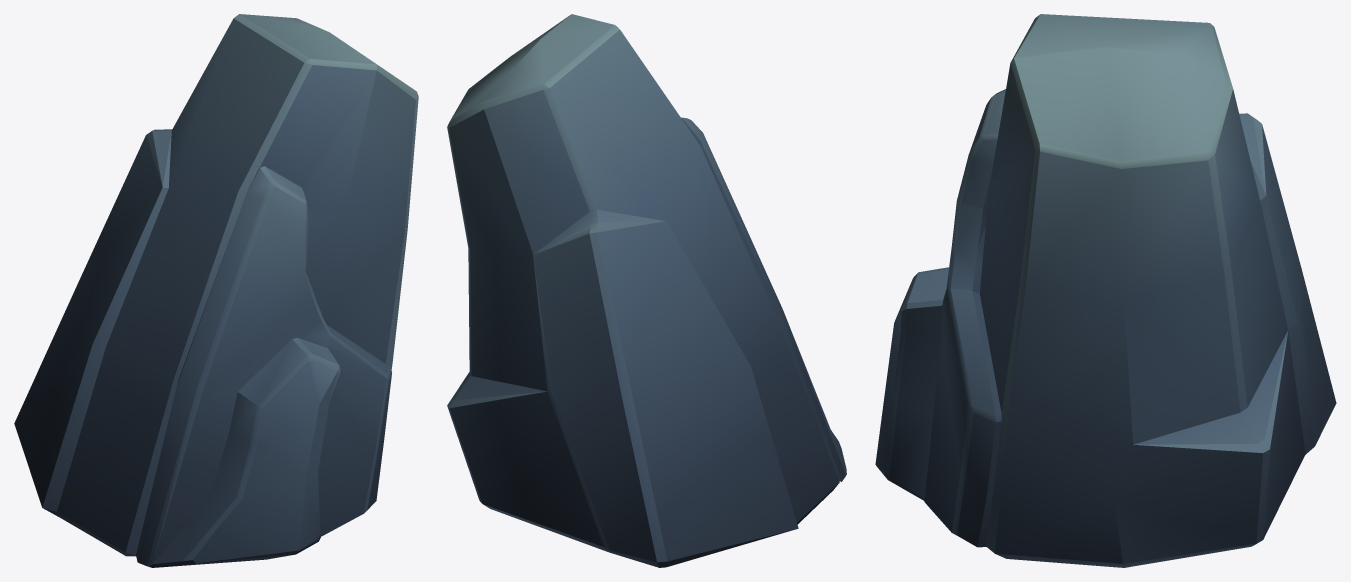
Rendered from rock_big_3.glb.
The picture shows the model from 3 angles, left to right: view 1: azimuth 30°, elevation 25°; view 2: azimuth 150°, elevation 25°; view 3: azimuth 270°, elevation 25°; orthographic projection. The views are drawn at different scales.
Visible parts, largest first — view 1: rock_big_3; view 2: rock_big_3; view 3: rock_big_3.
Part boxes in pixels (box(x1,y1,x2,y2)): rock_big_3: box(14, 14, 418, 567); rock_big_3: box(447, 14, 846, 567); rock_big_3: box(875, 14, 1336, 567).
Size of the model in its own units: 6.68 by 8.5 by 6.59.
Materials: 1 (1 with a texture image).
